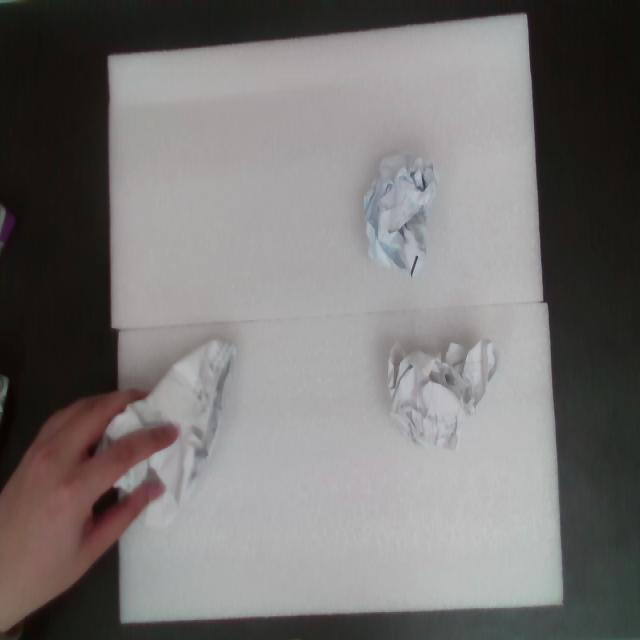paper: (92, 332, 246, 522), (360, 309, 519, 466), (345, 137, 441, 291)
